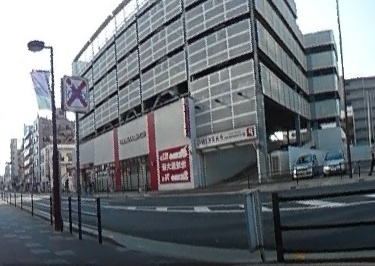person: (367, 137, 375, 175)
